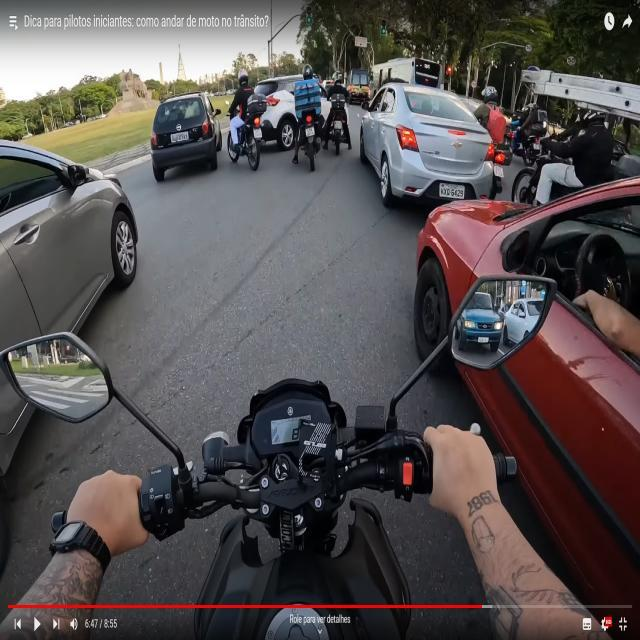placa_moto: (304, 124, 316, 139), (253, 126, 263, 139), (333, 119, 343, 131)
